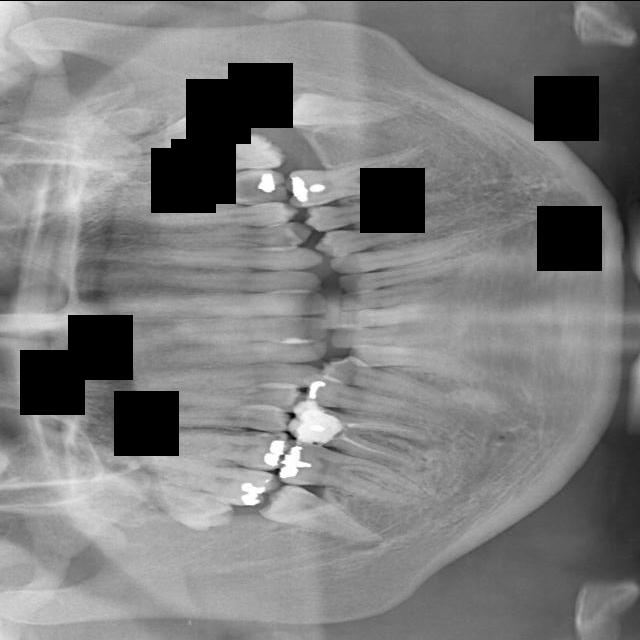3M ESPE Implant: (89, 450, 239, 544)
AMerOss Implant: (281, 141, 434, 212)
Amalgam filling: (109, 443, 281, 513)
Anthogyr Implant: (299, 187, 459, 232)
Bicon Implant: (311, 209, 458, 260)
BioHorizons Implant: (327, 227, 489, 280)
BioLife Implant: (336, 245, 497, 296)
Biomet 3i Implant: (336, 275, 465, 311)
Blue Sky Bio Implant: (332, 300, 449, 329)
Camlog Implant: (330, 317, 463, 349)
Caries: (127, 265, 327, 292)
Composite filling: (344, 335, 481, 380)
Cowellmedi Implant: (317, 348, 454, 414)
Crown: (303, 369, 464, 430)
DENTSPLY Implant: (130, 430, 290, 470)
Dentatus Implant: (285, 393, 453, 478)
Dentis Implant: (360, 472, 361, 473)
Dentium Implant: (254, 476, 398, 548)
Euroteknika Implant: (127, 406, 288, 431)
Filling: (126, 388, 304, 413)
Frontier Implant: (120, 363, 324, 393)
Hiossen Implant: (123, 245, 326, 270)
Implant: (128, 315, 332, 347)
Implant Direct: (141, 336, 331, 373)
Keystone Dental Implant: (148, 289, 332, 315)
MIS Implant: (130, 220, 312, 246)
Mandible: (124, 201, 301, 237)
Maxilla: (128, 164, 289, 217)
Megagen Implant: (114, 129, 292, 179)
Neodent Implant: (97, 102, 241, 161)
Neoss Implant: (272, 86, 408, 129)
